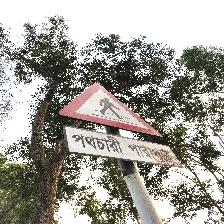Pedestrian-crossing: (57, 82, 179, 168)
